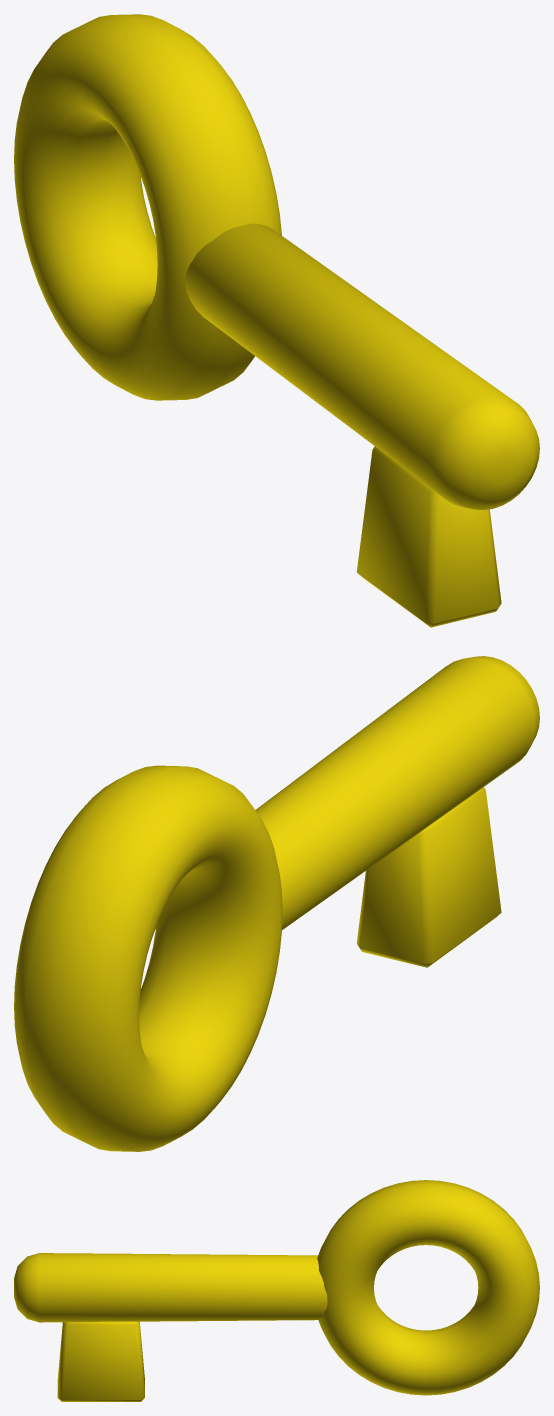
Rendered from M_Key.fbx.
3 renders of one model, top to bottom at view 1: azimuth 30°, elevation 25°; view 2: azimuth 150°, elevation 25°; view 3: azimuth 270°, elevation 25°, orthographic. The views are drawn at different scales.
Parts seen in each view (by area): view 1: Key; view 2: Key; view 3: Key.
Boxes of the visible parts, x1,y1,x2,y2 form: Key: (14,14,539,627); Key: (14,656,539,1151); Key: (14,1180,539,1401).
Bounding box in the file's own units: 0.1408 × 0.4299 × 0.9843.
